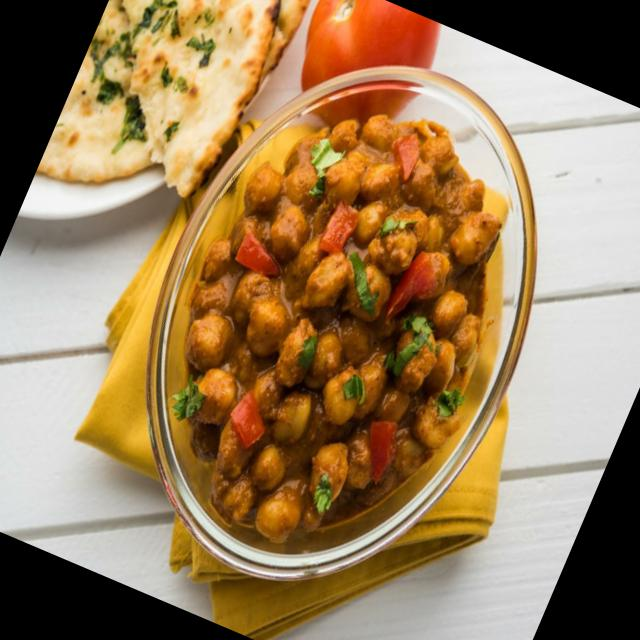Chole: (110, 58, 560, 589)
